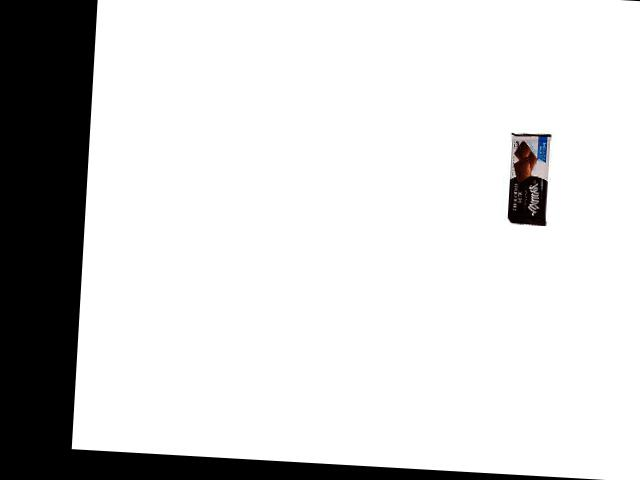chocolate: (504, 131, 553, 225)
